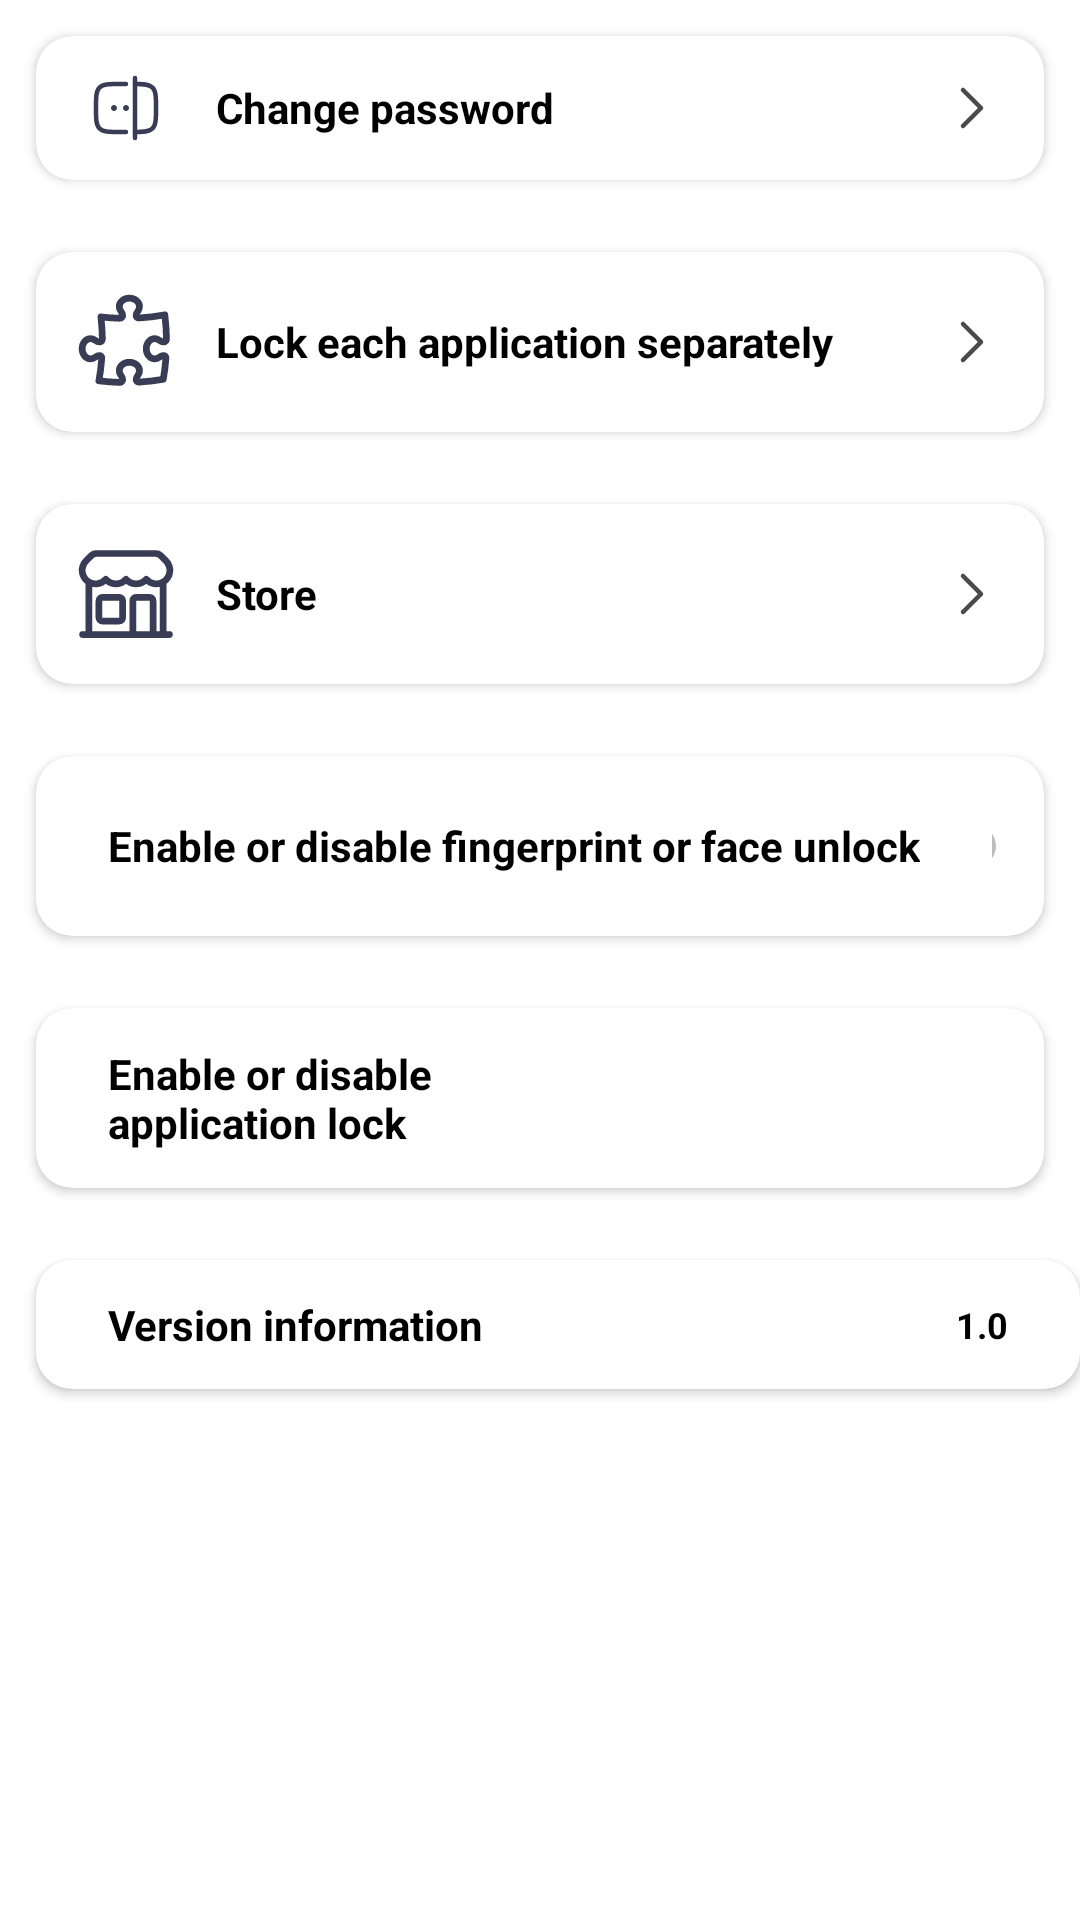

Named icons in this screenshot (1080×1920) and their centers, point (x, y):
chevron right: point (972, 108), point (972, 342), point (972, 594)
reset password: point (126, 108)
shop: point (126, 594)
